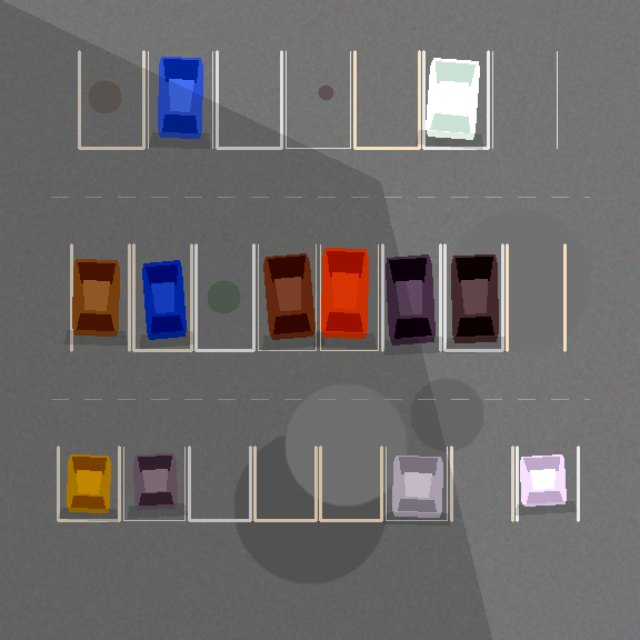space-empty: (354, 51, 419, 148), (492, 51, 557, 148), (79, 51, 143, 148), (217, 51, 281, 148), (286, 51, 350, 148), (196, 244, 253, 350), (507, 244, 564, 350), (254, 447, 316, 520), (189, 447, 250, 520), (320, 447, 381, 520), (451, 447, 512, 520)
space-occupied: (423, 51, 488, 148), (148, 51, 212, 148), (71, 244, 129, 350), (133, 244, 191, 350), (258, 244, 316, 350), (320, 244, 378, 350), (382, 244, 440, 350), (444, 244, 502, 350), (58, 447, 119, 520), (123, 447, 184, 520), (386, 447, 447, 520), (517, 447, 578, 520)
